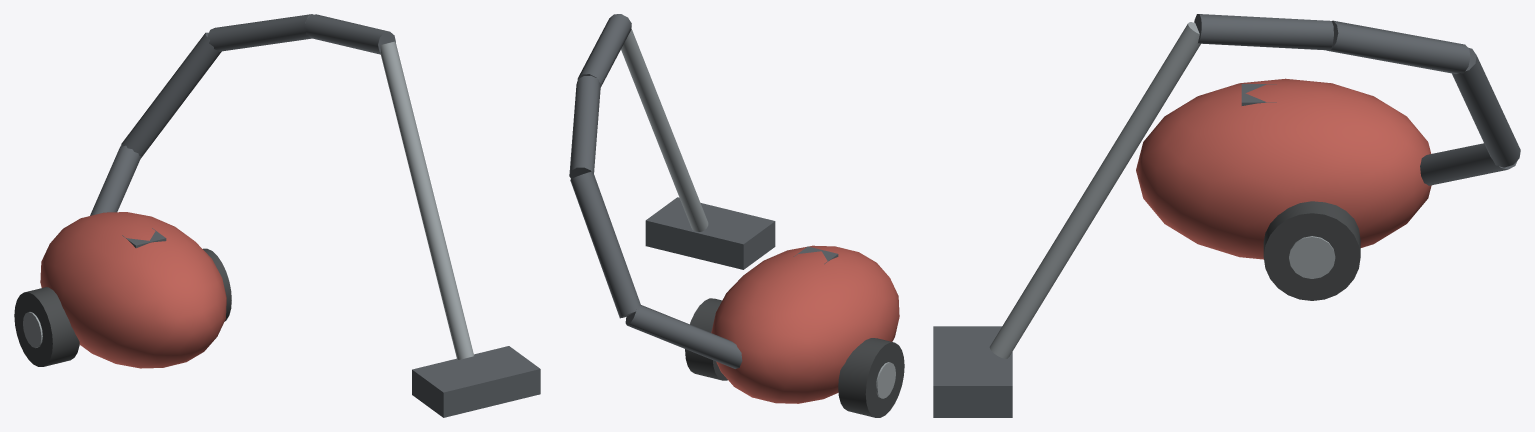
File: vacuum_cleaner.glb
3 renders of one model, left to right at view 1: azimuth 30°, elevation 25°; view 2: azimuth 150°, elevation 25°; view 3: azimuth 270°, elevation 25°, orthographic. The views are drawn at different scales.
Parts seen in each view (by area): view 1: canister_1, floor_head_12, wand_11, hose_8, tire_3, hose_9, hose_10, hose_7, hub_4, tire_5; view 2: canister_1, floor_head_12, wand_11, hose_8, tire_3, hose_7, hose_9, hose_10, tire_5, hub_4; view 3: canister_1, wand_11, floor_head_12, tire_5, hose_9, hose_10, hose_8, hose_7, hub_6.
Boxes of the visible parts, left/top/right/bottom form: canister_1: left=40, top=212, right=226, bottom=368; floor_head_12: left=412, top=346, right=540, bottom=417; wand_11: left=380, top=41, right=473, bottom=360; hose_8: left=121, top=32, right=221, bottom=157; tire_3: left=14, top=287, right=79, bottom=366; hose_9: left=207, top=14, right=312, bottom=51; hose_10: left=304, top=14, right=395, bottom=54; hose_7: left=90, top=144, right=141, bottom=215; hub_4: left=23, top=312, right=42, bottom=347; tire_5: left=203, top=248, right=231, bottom=321; canister_1: left=711, top=245, right=899, bottom=403; floor_head_12: left=645, top=197, right=775, bottom=269; wand_11: left=621, top=28, right=708, bottom=231; hose_8: left=570, top=171, right=641, bottom=318; tire_3: left=838, top=338, right=904, bottom=417; hose_7: left=625, top=305, right=742, bottom=368; hose_9: left=569, top=75, right=600, bottom=178; hose_10: left=577, top=14, right=631, bottom=87; tire_5: left=685, top=298, right=727, bottom=380; hub_4: left=876, top=362, right=895, bottom=398; canister_1: left=1136, top=78, right=1431, bottom=259; wand_11: left=989, top=22, right=1200, bottom=358; floor_head_12: left=933, top=326, right=1012, bottom=417; tire_5: left=1263, top=201, right=1360, bottom=300; hose_9: left=1326, top=20, right=1470, bottom=73; hose_10: left=1194, top=14, right=1333, bottom=50; hose_8: left=1452, top=47, right=1520, bottom=167; hose_7: left=1420, top=143, right=1517, bottom=185; hub_6: left=1289, top=236, right=1335, bottom=278.
Bounding box in the file's own units: 1.18 × 0.9343 × 1.33.
